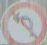Don't turn left: (2, 4, 42, 44)
